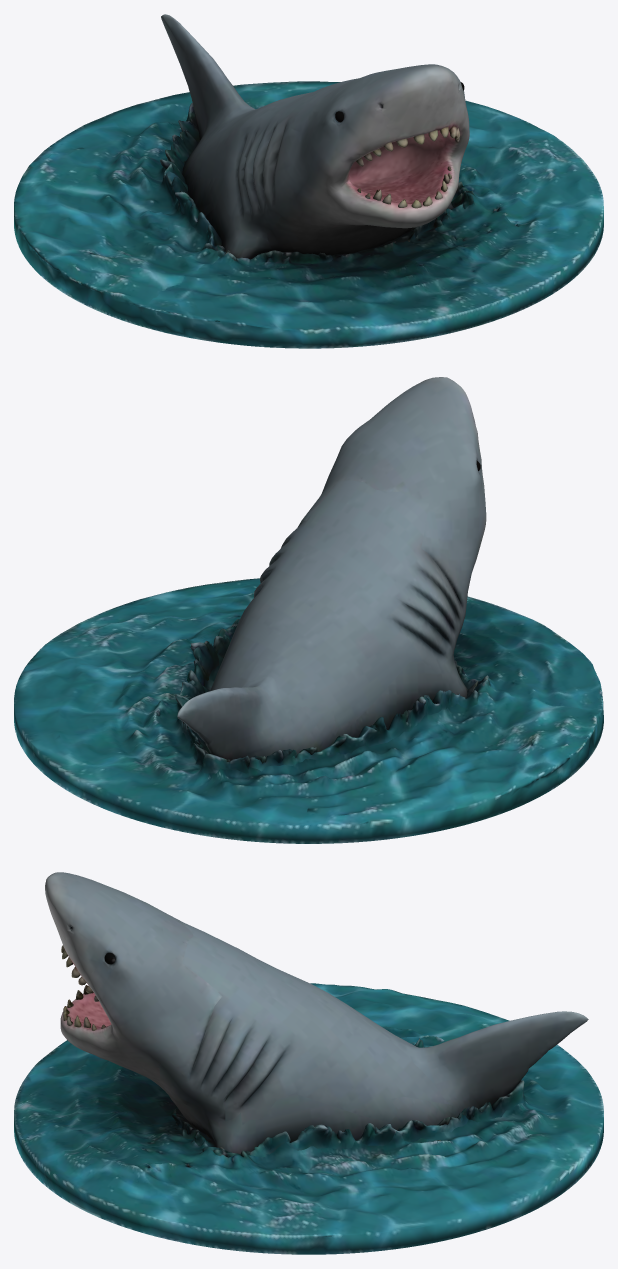
The model's file is MZ4250 - Giant Shark Emerging from Water.glb.
The picture shows the model from 3 angles, top to bottom: view 1: azimuth 30°, elevation 25°; view 2: azimuth 150°, elevation 25°; view 3: azimuth 270°, elevation 25°; orthographic projection.
Visible parts, largest first — view 1: Giant Shark Coming out of Water.001; view 2: Giant Shark Coming out of Water.001; view 3: Giant Shark Coming out of Water.001.
Boxes of the visible parts, x1,y1,x2,y2 form: Giant Shark Coming out of Water.001: (14,14,603,348); Giant Shark Coming out of Water.001: (14,377,603,843); Giant Shark Coming out of Water.001: (14,872,603,1254).
Size of the model in its own units: 75.76 by 35.41 by 75.74.
1 material, 1 textured.
